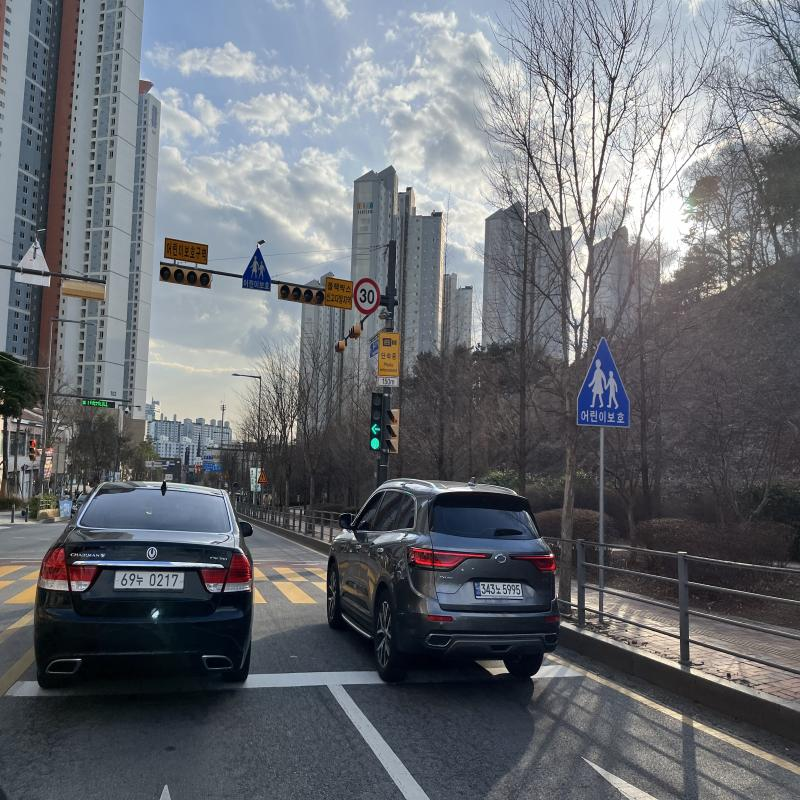green: (370, 438, 381, 450)
left: (372, 420, 381, 436)
